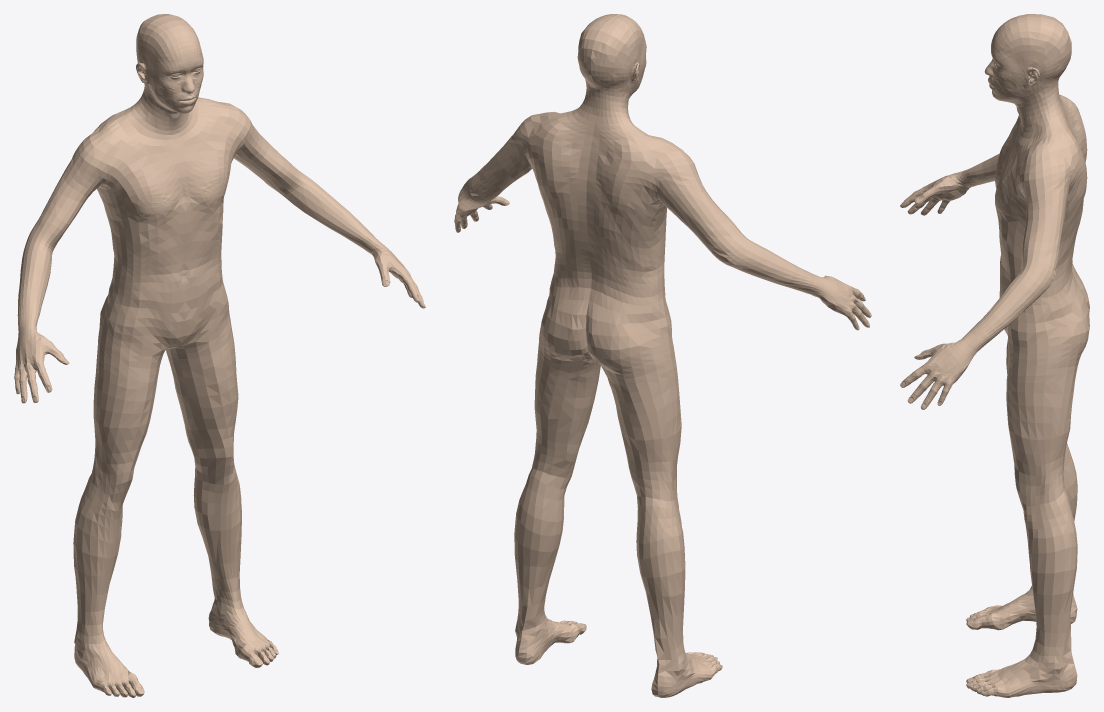
File: male-adult-fit-medium.glb
The picture shows the model from 3 angles, left to right: view 1: azimuth 30°, elevation 25°; view 2: azimuth 150°, elevation 25°; view 3: azimuth 270°, elevation 25°; orthographic projection.
Parts seen in each view (by area): view 1: world; view 2: world; view 3: world.
Boxes of the visible parts, x1,y1,x2,y2 form: world: (14,14,425,697); world: (454,14,871,697); world: (900,14,1089,697).
Bounding box in the file's own units: 1.28 × 1.95 × 0.5229.
